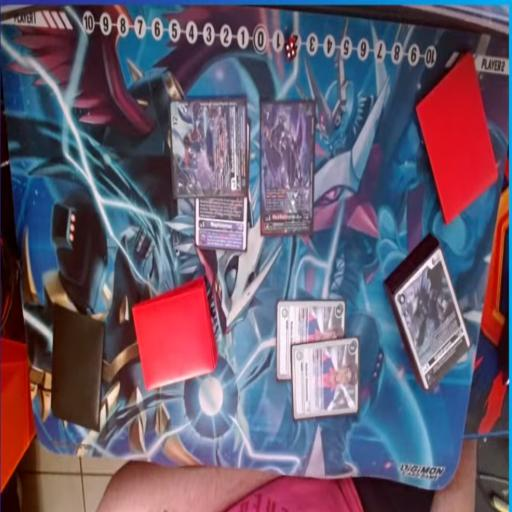card: (385, 234, 469, 390), (168, 97, 248, 200), (258, 100, 318, 234), (274, 294, 347, 378), (288, 336, 358, 418), (193, 196, 250, 256)
